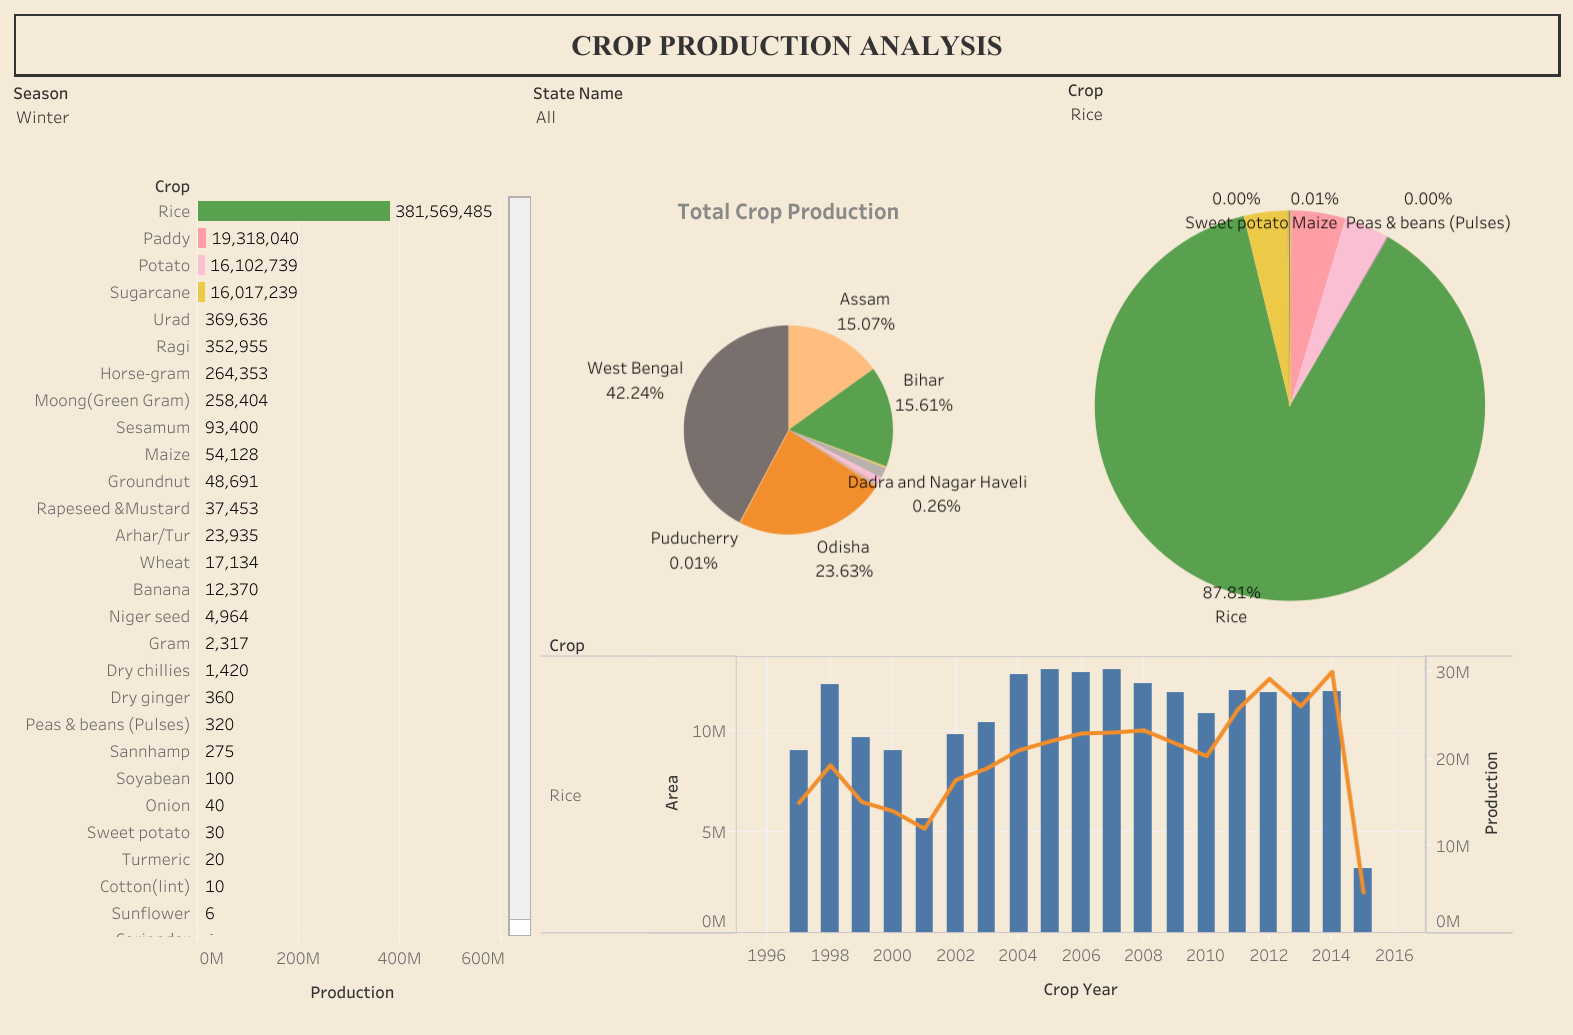

The page's visual inventory and layout, read from the dashboard file:
{"tool":"tableau","page":{"name":"Crop Production Analysis Design 2","canvas":[1166,768],"ordinal":0},"visuals":[{"type":"title","box":[8,8,1150,53]},{"type":"filter","title":"Crop Area & Production","param":"[federated.01oy4xn044trml160ut7l1iv7sse].[none:Crop:nk]","box":[790.6,55.5,364.3,51.4]},{"type":"filter","title":"Season & crops","param":"[federated.01oy4xn044trml160ut7l1iv7sse].[none:Season:nk]","box":[10.3,57.6,383.4,52.4]},{"type":"filter","title":"Season & crops","param":"[federated.01oy4xn044trml160ut7l1iv7sse].[none:State_Name:nk]","box":[395.3,57.6,391.3,51.4]},{"type":"worksheet","title":"Season & crops","mark":"Automatic","rows":["Crop"],"cols":["Production"],"box":[6,126,388.4,624]},{"type":"worksheet","title":"Seasonable Crop","mark":"Pie","box":[776.8,135,356.8,331]},{"type":"worksheet","title":"Total crop production","mark":"Pie","box":[406.3,138,355.9,323]},{"type":"worksheet","title":"Crop Area & Production","mark":"Automatic","rows":["Crop","Area","Production"],"cols":["Crop_Year"],"box":[401.2,466,719.6,283]}]}

Visuals, with their boxes in screenshot pixels (x1, y1, x2, y2), scaled from the page's 1166x768 canvas onto the 1573x1035 screenshot:
title: (11,11,1562,82)
"Crop Area & Production" filter: (1067,75,1558,144)
"Season & crops" filter: (14,78,531,148)
"Season & crops" filter: (533,78,1061,147)
"Season & crops" worksheet: (8,170,532,1011)
"Seasonable Crop" worksheet (Pie marks): (1048,182,1529,628)
"Total crop production" worksheet (Pie marks): (548,186,1028,621)
"Crop Area & Production" worksheet: (541,628,1512,1009)
